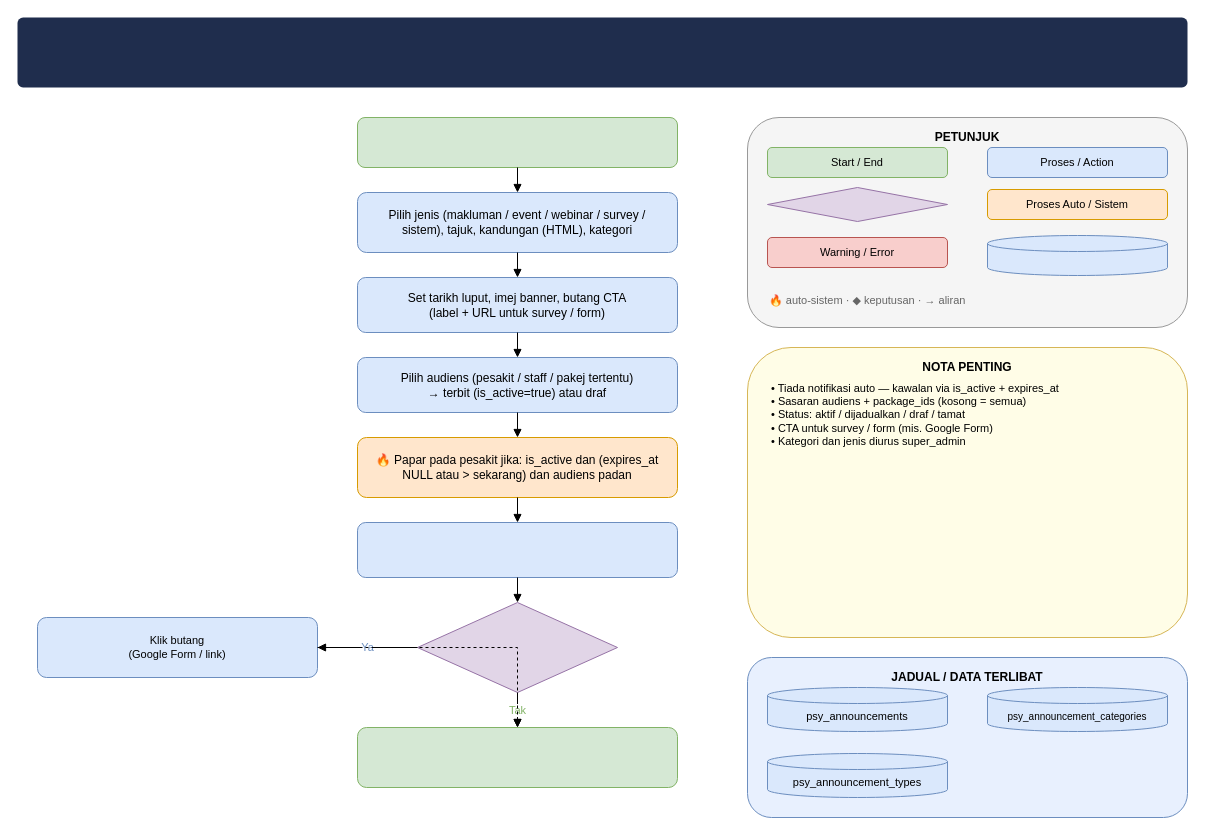
The diagram is 1205 pixels wide and 835 high, and some of its shapes have lost their labels. Here are the shapes that lost their labels. From the top down, the centre of each, then its label:
At (602,52): "FLOW: PENGUMUMAN Staff terbit pengumuman bersasar → pesakit lihat".
At (517,142): "START Staff buka pengumuman-baru.html".
At (857,204): "Keputusan / Decision".
At (1077,255): "Database".
At (517,550): "Pesakit buka announcements.html: grid kad, tapis kategori, carian".
At (517,647): "Ada CTA?".
At (517,757): "END Pengumuman dipaparkan sehingga luput / dinyahaktif".
